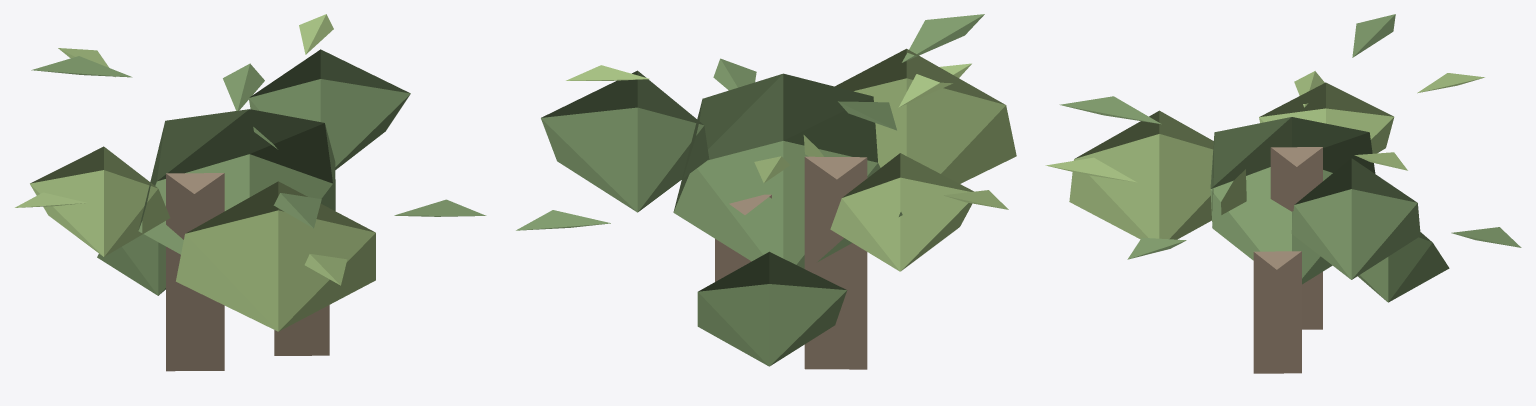
Rendered from nong.da@subadult__bloom.glb.
3 renders of one model, left to right at view 1: azimuth 30°, elevation 25°; view 2: azimuth 150°, elevation 25°; view 3: azimuth 270°, elevation 25°, orthographic. The views are drawn at different scales.
Visible parts, largest first — view 1: nong.da@subadult__bloom; view 2: nong.da@subadult__bloom; view 3: nong.da@subadult__bloom.
Part boxes in pixels (left/top/right/bottom): nong.da@subadult__bloom: left=15, top=14, right=486, bottom=371; nong.da@subadult__bloom: left=516, top=14, right=1016, bottom=369; nong.da@subadult__bloom: left=1045, top=14, right=1521, bottom=373.
Size of the model in its own units: 0.7739 by 0.5313 by 0.8313.
